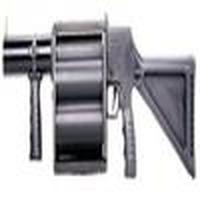gun: (1, 28, 197, 152)
